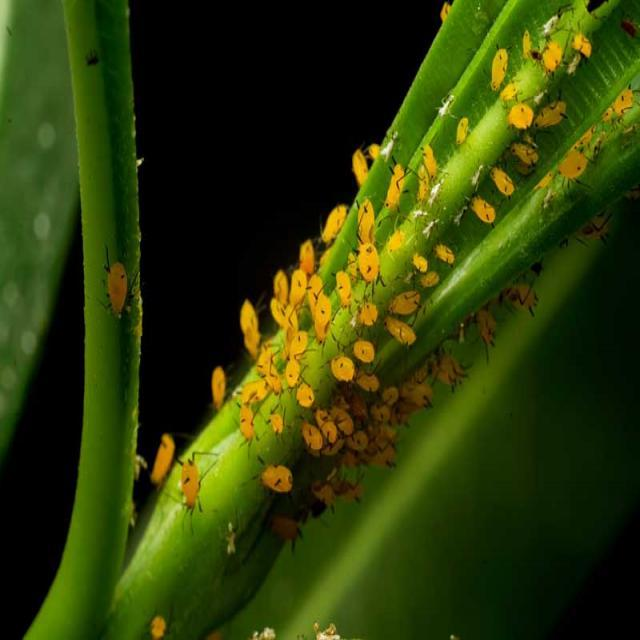Aphids: (202, 127, 559, 557), (449, 17, 608, 235), (553, 62, 640, 199), (144, 406, 212, 520), (91, 236, 150, 342)
